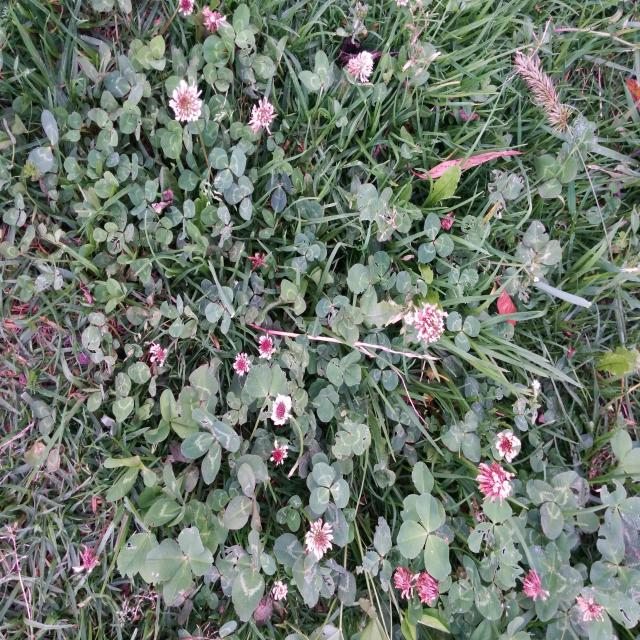Four Leaf Clover: (145, 526, 214, 607)
